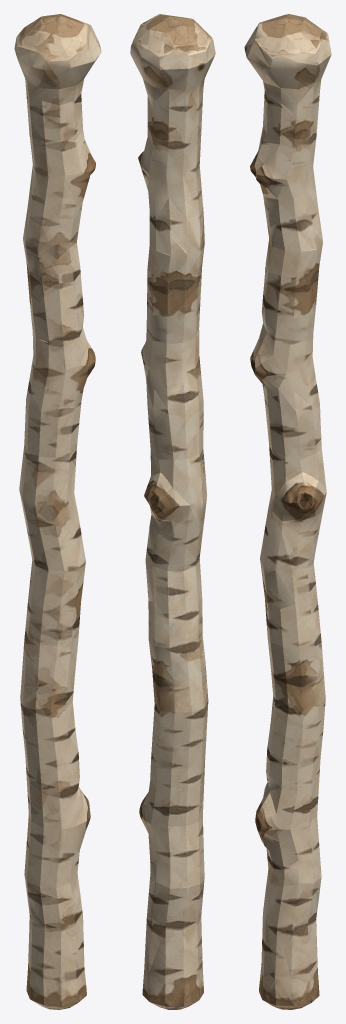
File: staff-birch.glb
The picture shows the model from 3 angles, left to right: view 1: azimuth 90°, elevation 25°; view 2: azimuth 210°, elevation 25°; view 3: azimuth 270°, elevation 25°; orthographic projection.
Bounding box in the file's own units: 0.1446 × 1.9 × 0.1528.
Materials: 1 (1 with a texture image).
